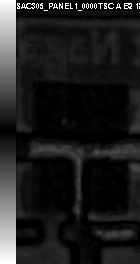led: (32, 82, 128, 213)
